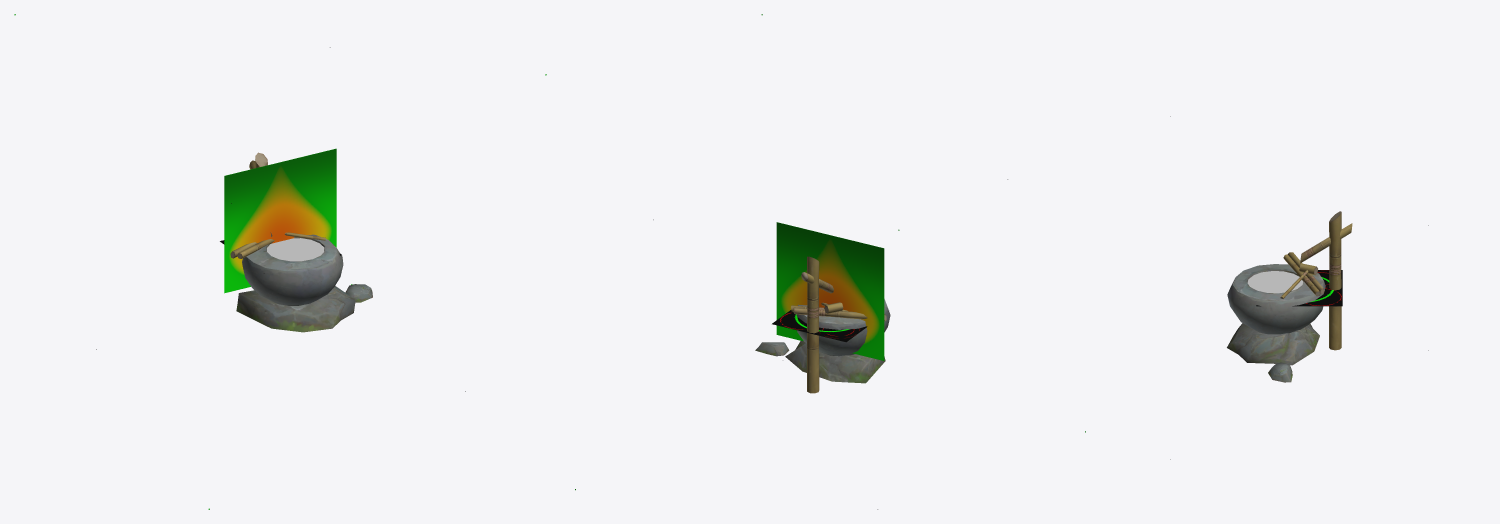
File: Homeworld_Exterior_Common_Thing_Stonesquat_01_Vo.fbx
3 views of the same model, side by side, from view 1: azimuth 30°, elevation 25°; view 2: azimuth 150°, elevation 25°; view 3: azimuth 270°, elevation 25° (orthographic). The views are drawn at different scales.
Parts seen in each view (by area): view 1: Area_Dq_Prop_MS_Cylinder_03_Vo, Water; view 2: Water, Area_Dq_Prop_MS_Cylinder_03_Vo, Rippling; view 3: Area_Dq_Prop_MS_Cylinder_03_Vo, Rippling.
Boxes of the visible parts, x1,y1,x2,y2 form: Area_Dq_Prop_MS_Cylinder_03_Vo: (230, 152, 372, 332); Water: (14, 14, 546, 509); Water: (575, 14, 1085, 490); Area_Dq_Prop_MS_Cylinder_03_Vo: (755, 256, 890, 393); Rippling: (653, 179, 1007, 509); Area_Dq_Prop_MS_Cylinder_03_Vo: (1227, 211, 1352, 382); Rippling: (1170, 116, 1428, 459).
Size of the model in its own units: 3.01 by 3.01 by 3.
